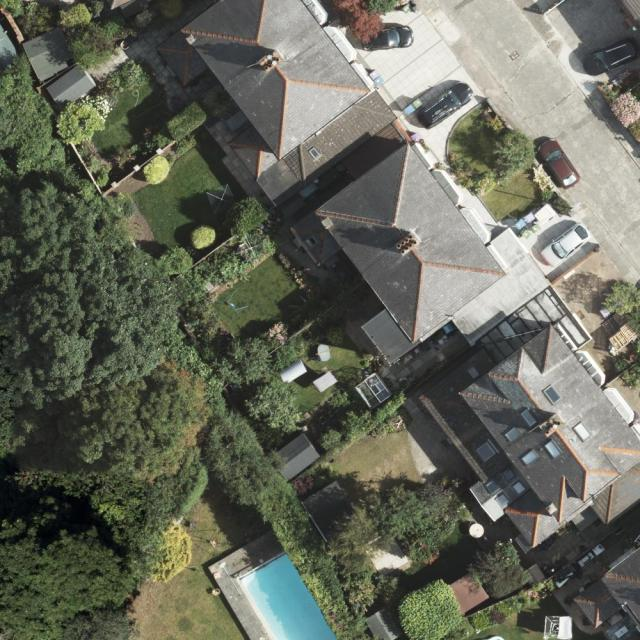roof: (156, 0, 640, 546), (571, 545, 640, 631)
skylight: (540, 383, 563, 407), (475, 440, 497, 461), (572, 420, 592, 443), (543, 438, 563, 460), (519, 407, 540, 427), (519, 448, 540, 466), (504, 426, 524, 444), (485, 477, 501, 495), (308, 145, 323, 162), (305, 234, 319, 248), (497, 493, 509, 508), (501, 468, 515, 480), (511, 480, 525, 492)
